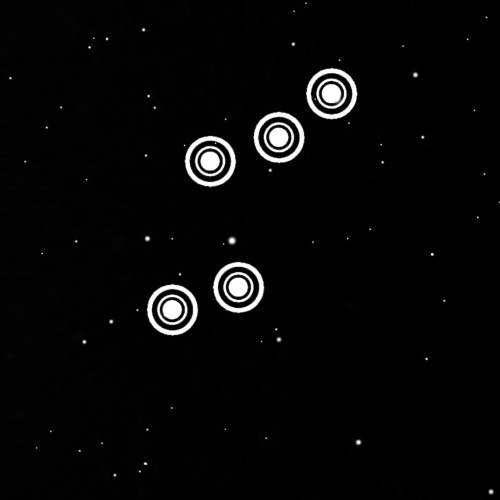lyra: (141, 52, 367, 345)
